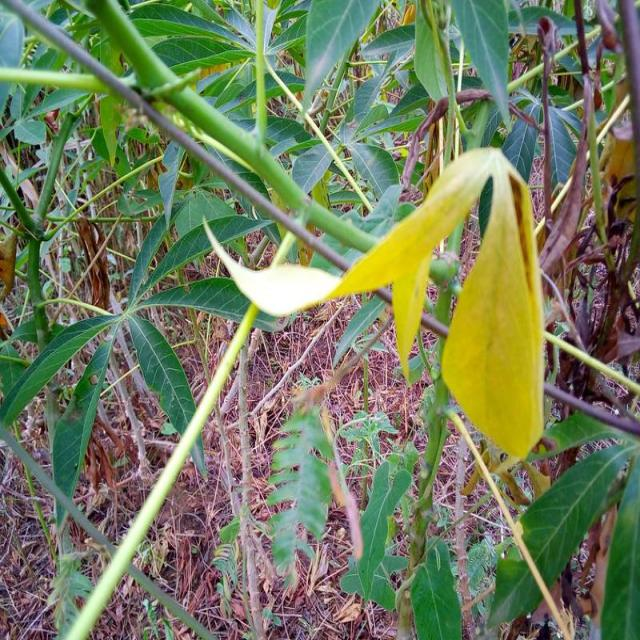cassava leaf: (203, 143, 546, 461), (439, 148, 546, 461)
